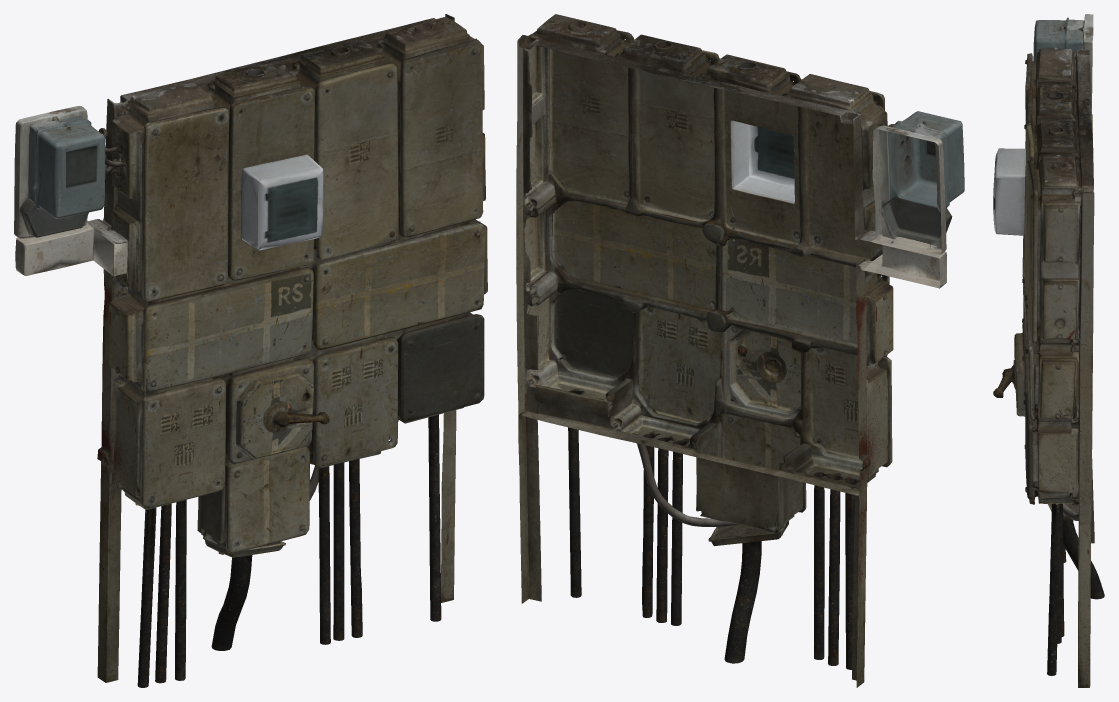
The picture shows the model from 3 angles, left to right: view 1: azimuth 30°, elevation 25°; view 2: azimuth 150°, elevation 25°; view 3: azimuth 270°, elevation 25°; orthographic projection. The views are drawn at different scales.
Parts seen in each view (by area): view 1: vgyiedcaw_LOD0_TIER2_000; view 2: vgyiedcaw_LOD0_TIER2_000; view 3: vgyiedcaw_LOD0_TIER2_000.
Boxes of the visible parts, <box> form: vgyiedcaw_LOD0_TIER2_000: <box>14,14,487,687</box>; vgyiedcaw_LOD0_TIER2_000: <box>516,14,964,687</box>; vgyiedcaw_LOD0_TIER2_000: <box>993,14,1104,687</box>.
Size of the model in its own units: 1.29 by 1.63 by 0.3253.
Materials: 1 (1 with a texture image).
